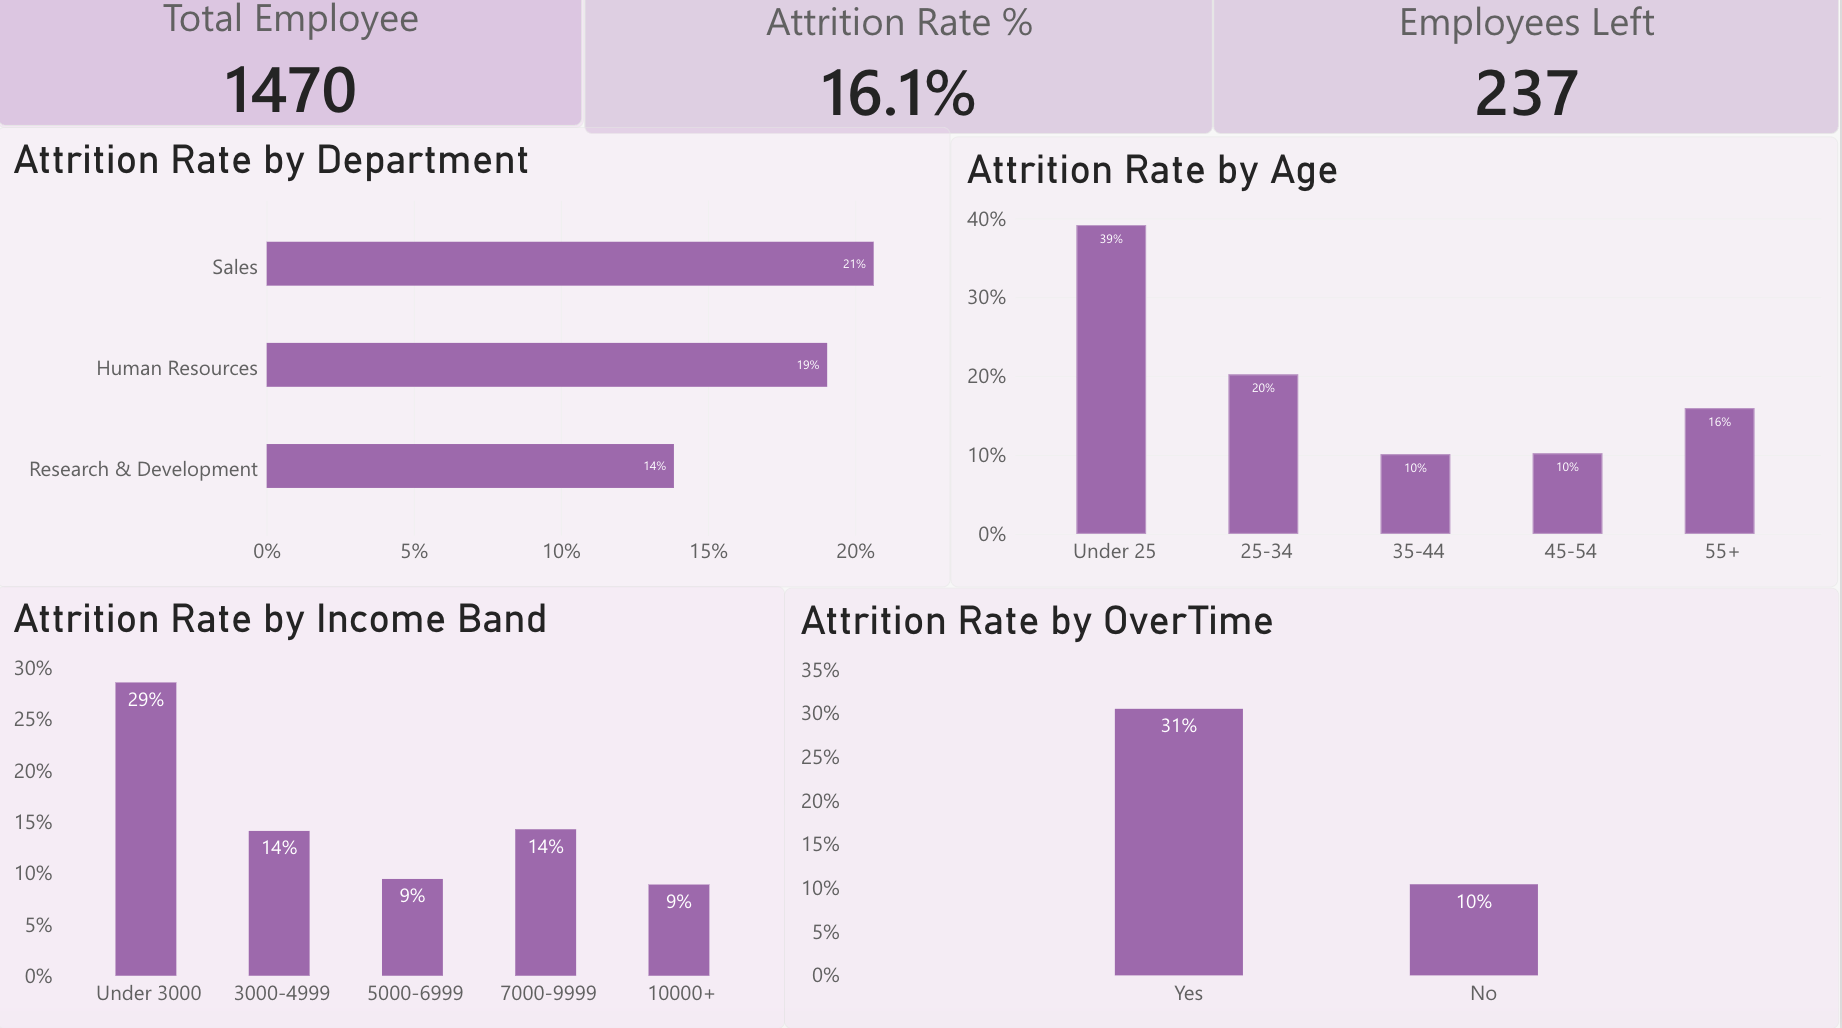

This screenshot's page, from the dashboard's own definition file:
{"tool":"powerbi","page":{"name":"Attrition Overview","canvas":[1920,1080],"ordinal":0},"visuals":[{"type":"cardVisual","fields":{"Data":["employee_attrition_cleaned.Measure"]},"box":[0,0,611.3,142.6],"z":0},{"type":"cardVisual","fields":{"Data":["employee_attrition_cleaned.Attrition Rate %"]},"box":[611.3,0,655.5,149.4],"z":1000},{"type":"cardVisual","fields":{"Data":["Sum(employee_attrition_cleaned.AttritionFlag)"]},"box":[1266.8,0,652.1,149.4],"z":2000},{"type":"clusteredBarChart","title":"Attrition Rate by Department","fields":{"Category":["employee_attrition_cleaned.Department"],"Y":["employee_attrition_cleaned.Attrition Rate Numeric"]},"box":[0,142.2,993.4,479.4],"z":3000},{"type":"clusteredColumnChart","title":"Attrition Rate by Age","fields":{"Category":["employee_attrition_cleaned.AgeBand"],"Y":["employee_attrition_cleaned.Attrition Rate Numeric"]},"box":[993.5,151.8,924.5,469.2],"z":4000},{"type":"clusteredColumnChart","title":"Attrition Rate by Income Band","fields":{"Category":["employee_attrition_cleaned.IncomeBand"],"Y":["employee_attrition_cleaned.Attrition Rate Numeric"]},"box":[0,619.6,820.7,461.1],"z":5000},{"type":"clusteredColumnChart","title":"Attrition Rate by OverTime","fields":{"Category":["employee_attrition_cleaned.OverTime"],"Y":["employee_attrition_cleaned.Attrition Rate Numeric"]},"box":[820.7,621.6,1099,459.1],"z":6000}]}

Visuals, with their boxes in screenshot pixels (x1, y1, x2, y2), scaled from the page's 1920x1080 canvas onto the 1842x1028 screenshot:
cardVisual - employee_attrition_cleaned.Measure: (0, 0, 586, 136)
cardVisual - employee_attrition_cleaned.Attrition Rate %: (586, 0, 1215, 142)
cardVisual - Sum(employee_attrition_cleaned.AttritionFlag): (1215, 0, 1841, 142)
"Attrition Rate by Department" clusteredBarChart: (0, 135, 953, 592)
"Attrition Rate by Age" clusteredColumnChart: (953, 144, 1840, 591)
"Attrition Rate by Income Band" clusteredColumnChart: (0, 590, 787, 1027)
"Attrition Rate by OverTime" clusteredColumnChart: (787, 592, 1841, 1027)
